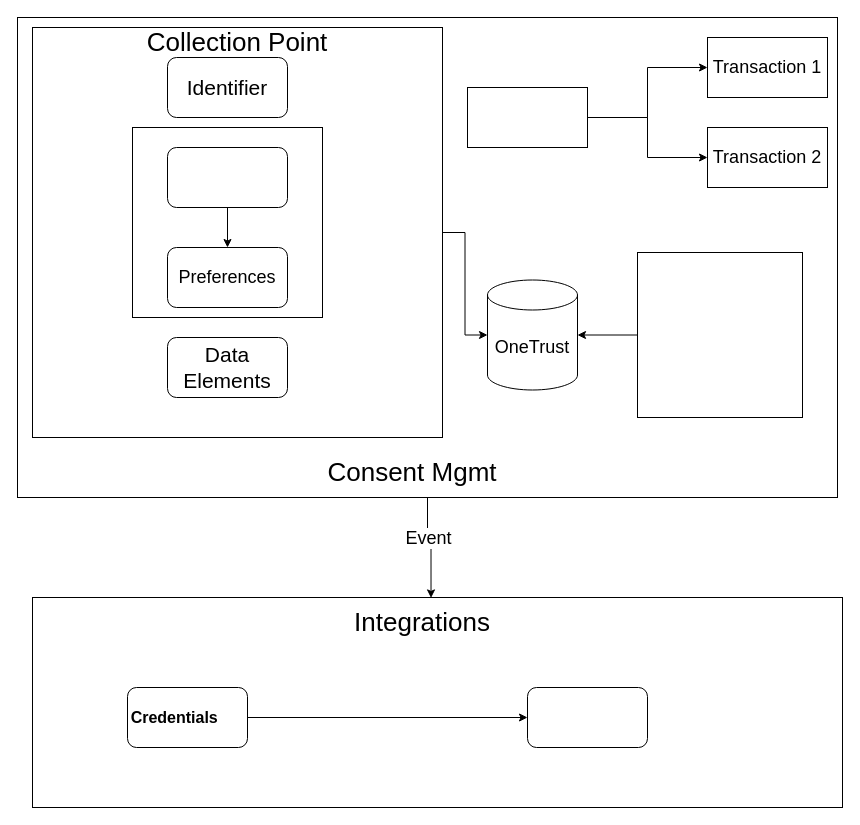
The diagram is 860 pixels wide and 825 high, and some of its shapes have lost their labels. The shapes that lost their labels are listed below. From the top down, each one's box as (x1, y1, x2, y2) in pixels, then its label:
(466, 86, 588, 148): Receipt
(166, 146, 288, 208): Purpose
(636, 252, 802, 418): Preference Center
(526, 686, 648, 748): Connections (Workflows)
